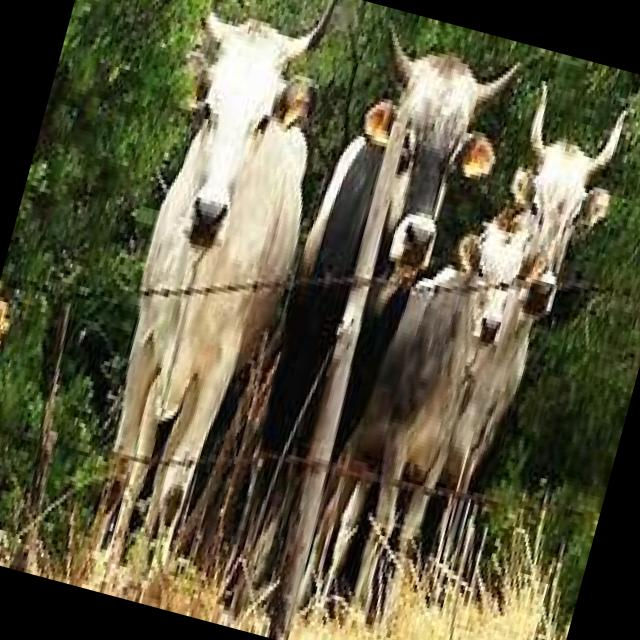animal: (205, 13, 523, 640), (47, 0, 363, 603), (414, 94, 636, 599), (336, 198, 536, 630)
